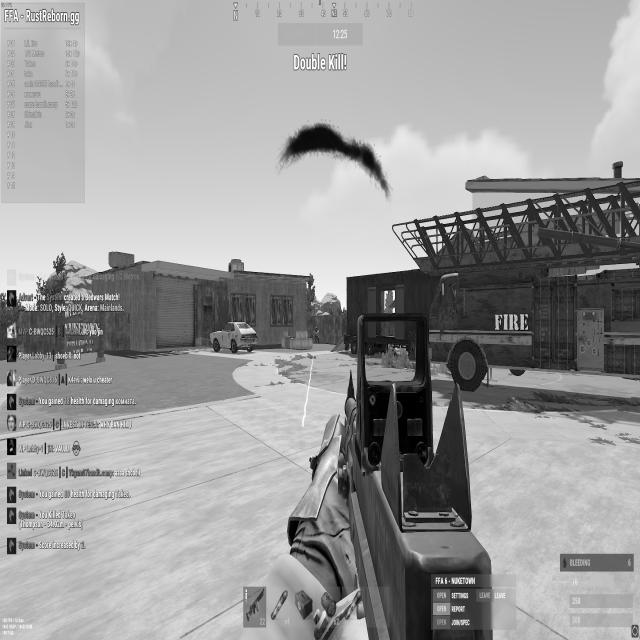Player: (314, 326, 319, 344), (40, 550, 44, 555), (315, 326, 317, 332)
